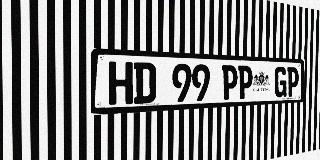9: (172, 63, 192, 102), (192, 64, 210, 101)
D: (134, 62, 156, 104)
G: (274, 67, 287, 97)
H: (109, 61, 133, 105)
P: (222, 65, 238, 100), (238, 65, 253, 99), (287, 67, 299, 97)
